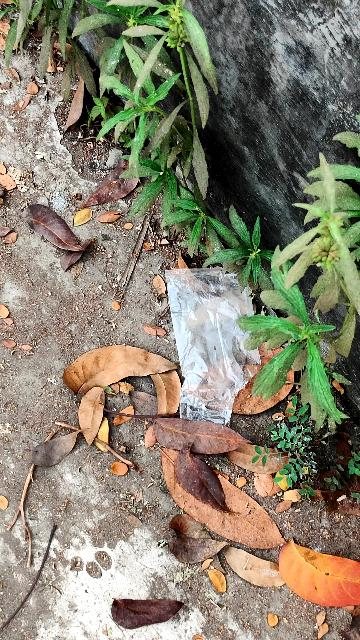polythene: (170, 278, 266, 423)
